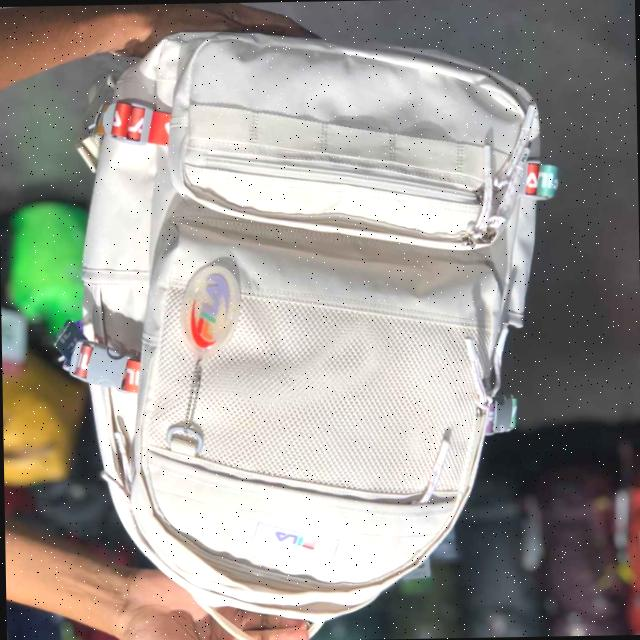Handbag: (70, 24, 551, 622)
